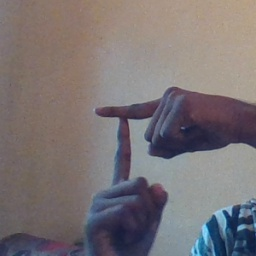T: (83, 89, 171, 200)
